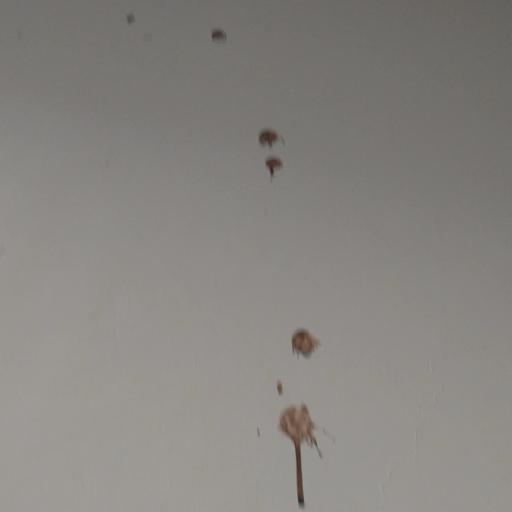stain: (245, 313, 338, 512), (122, 5, 236, 53), (244, 121, 308, 189)
